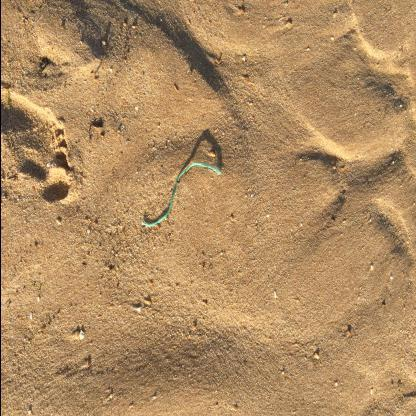diger: (142, 163, 222, 229)
